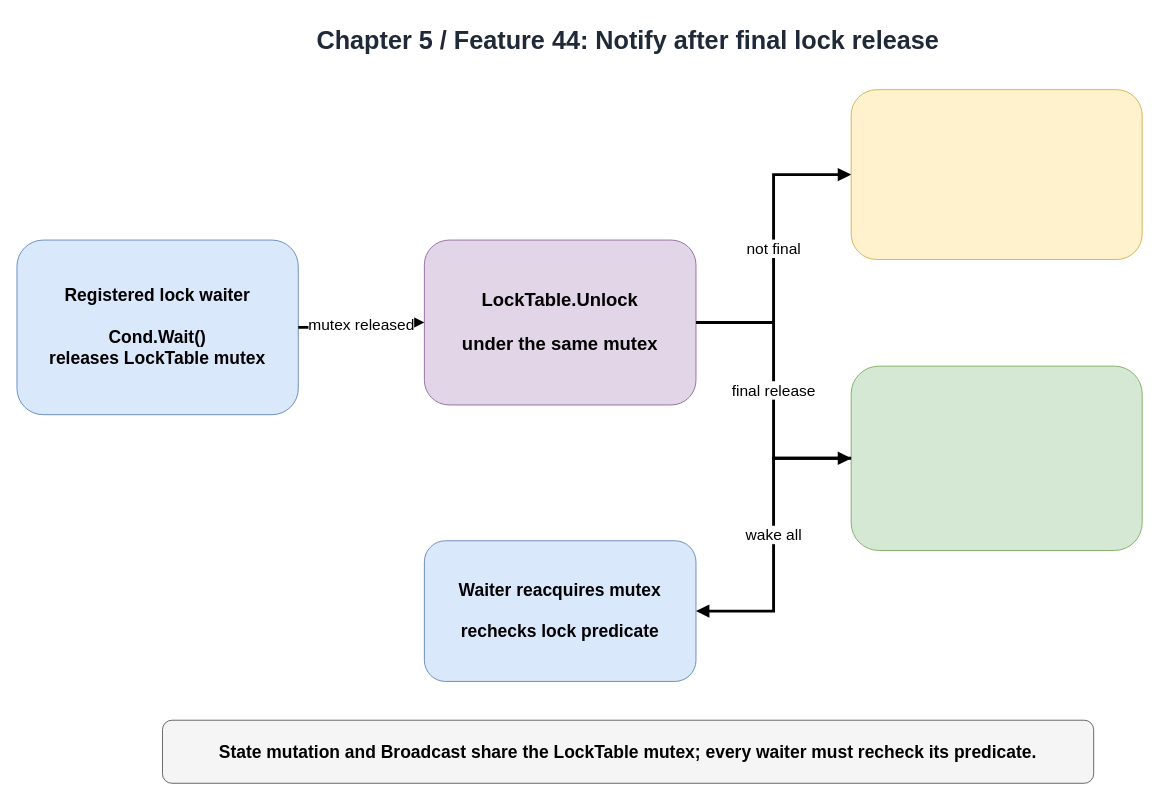
Image size: 1159x800. Some labels were removed from this diagram. Each missing label, with the centre of its shape:
"final shared or exclusive delete block entry Cond.Broadcast()" goes at [996,457].
"shared count > 1 decrement count no broadcast" goes at [996,174].
